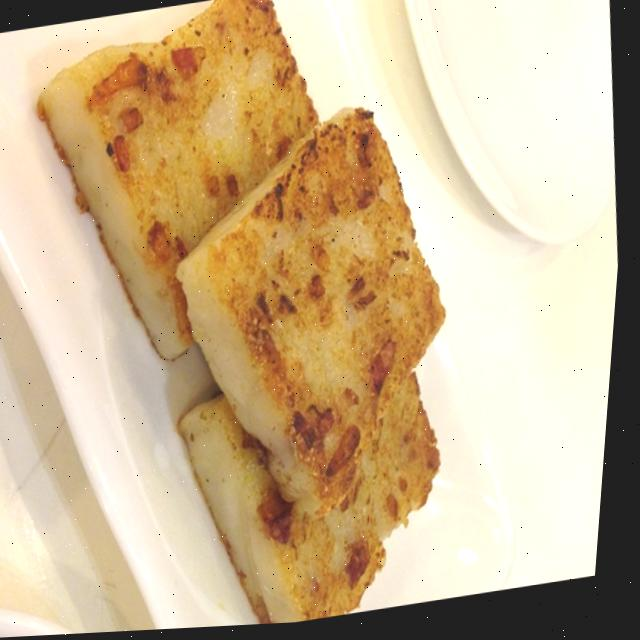蛋糕甜品: (74, 0, 520, 629)
